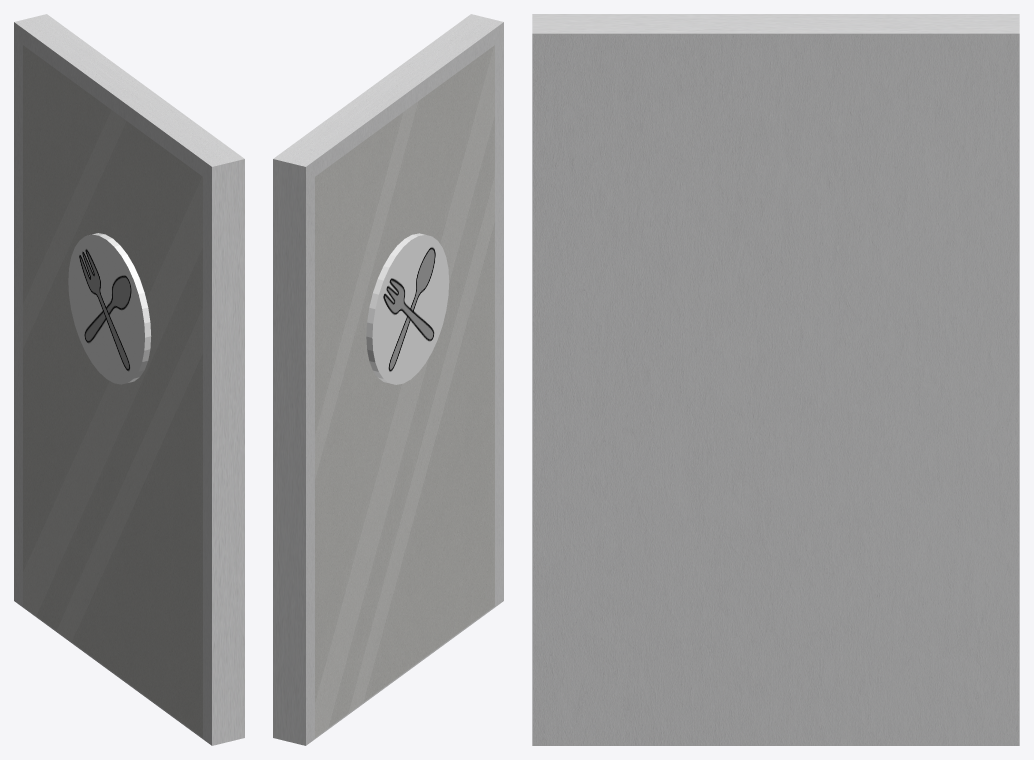
Rendered from Comedor.obj.
3 renders of one model, left to right at view 1: azimuth 30°, elevation 25°; view 2: azimuth 150°, elevation 25°; view 3: azimuth 270°, elevation 25°, orthographic. The views are drawn at different scales.
Parts seen in each view (by area): view 1: Cube.002, Circle.010; view 2: Cube.002, Circle.010; view 3: Cube.002.
Part boxes in pixels (x1,y1,x2,y2): Cube.002: (14,14,244,745); Circle.010: (68,233,151,384); Cube.002: (273,14,503,745); Circle.010: (366,233,449,384); Cube.002: (532,14,1019,745).
Size of the model in its own units: 0.1522 by 2.16 by 1.34.
3 materials, 3 textured.
